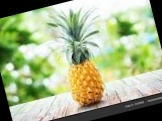Pineapple: (46, 9, 107, 106)
